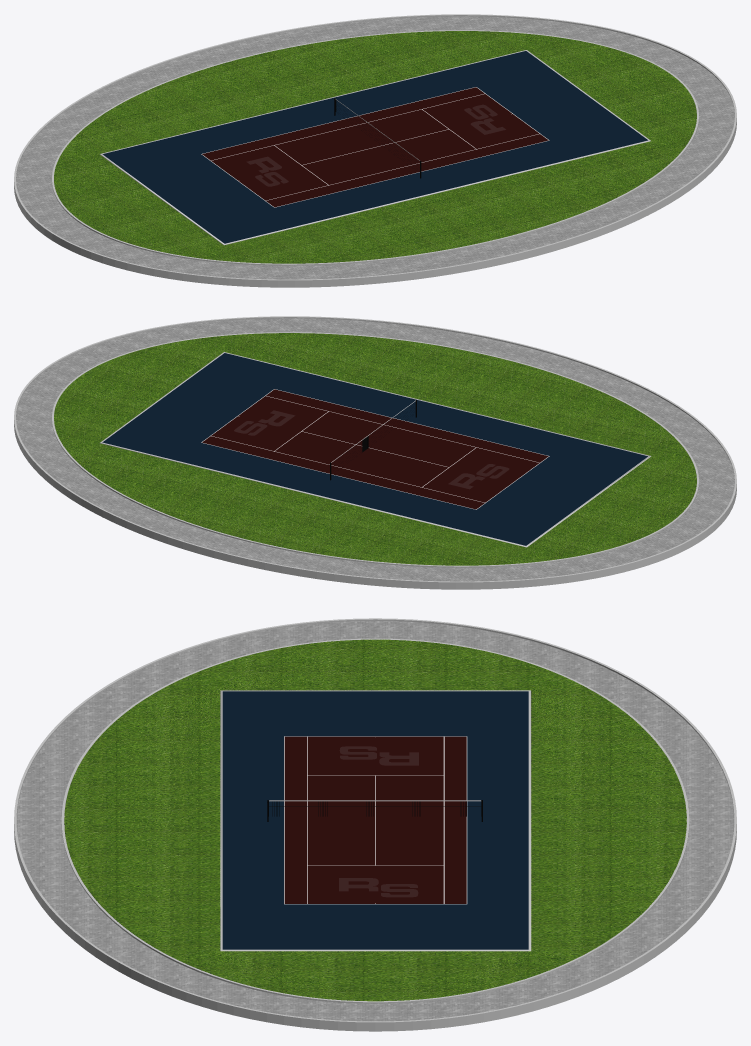
The picture shows the model from 3 angles, top to bottom: view 1: azimuth 30°, elevation 25°; view 2: azimuth 150°, elevation 25°; view 3: azimuth 270°, elevation 25°; orthographic projection. The views are drawn at different scales.
Visible parts, largest first — view 1: Rectangle025, outer, Object001, play, Ellipse001, Rectangle024, line marking; view 2: Rectangle025, outer, Object001, play, Ellipse001, Rectangle024, line marking; view 3: Rectangle025, outer, Object001, play, Ellipse001, Rectangle024, line marking.
Part boxes in pixels (x1,y1,x2,y2): Rectangle025: (54,31,696,263); outer: (102,51,647,243); Object001: (16,16,734,279); play: (202,87,548,207); Ellipse001: (14,14,736,287); Rectangle024: (99,50,650,245); line marking: (201,87,549,207); Rectangle025: (54,333,696,565); outer: (102,353,647,545); Object001: (16,318,734,581); play: (202,389,548,509); Ellipse001: (14,316,736,589); Rectangle024: (100,352,651,547); line marking: (201,389,549,509); Rectangle025: (64,639,686,1001); outer: (222,691,528,949); Object001: (16,621,734,1021); play: (284,736,466,903); Ellipse001: (14,618,736,1031); Rectangle024: (220,690,531,951); line marking: (284,736,467,904).
Bounding box in the file's own units: 57165 × 2027 × 43226.
Materials: 9 (2 with a texture image).
